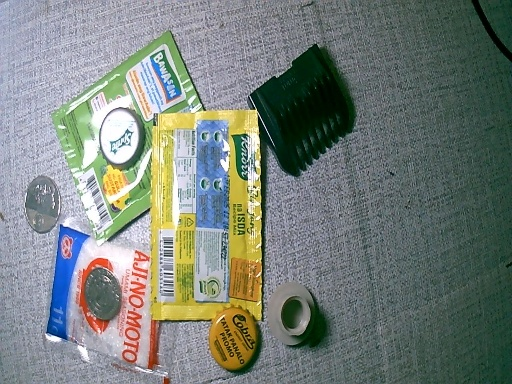metal: (205, 306, 260, 376), (98, 111, 146, 172), (24, 177, 59, 234)
plastic: (56, 32, 203, 245), (153, 111, 262, 319), (45, 224, 172, 384)
trash: (245, 45, 358, 177), (266, 280, 320, 351)
